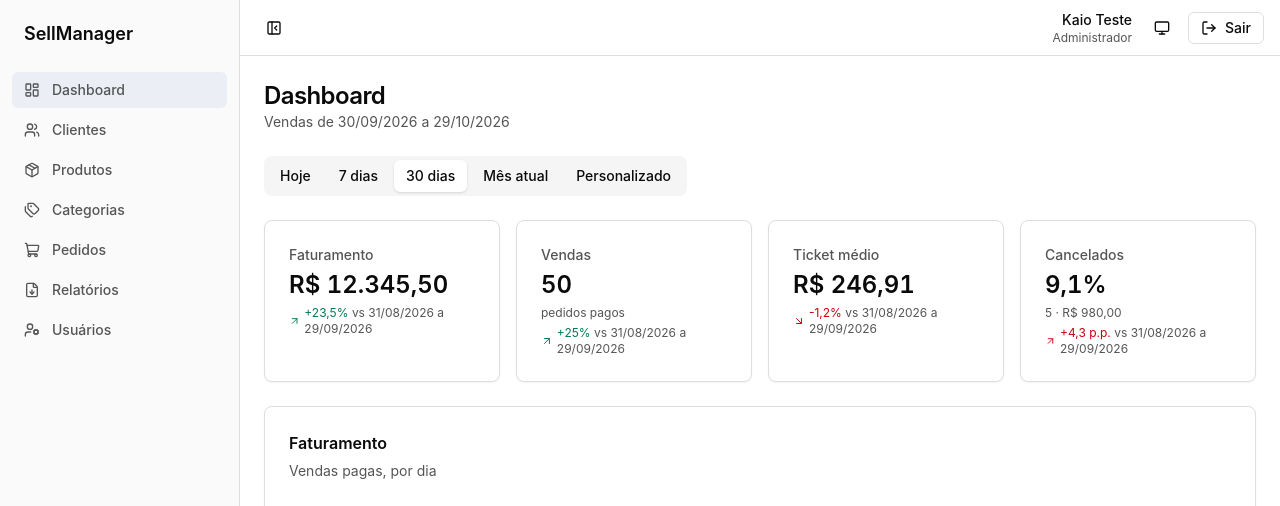
Test case: layout autenticado › navega entre as páginas e marca a rota ativa
Click the link "Produtos" at (68, 170), box [24,161,112,178]
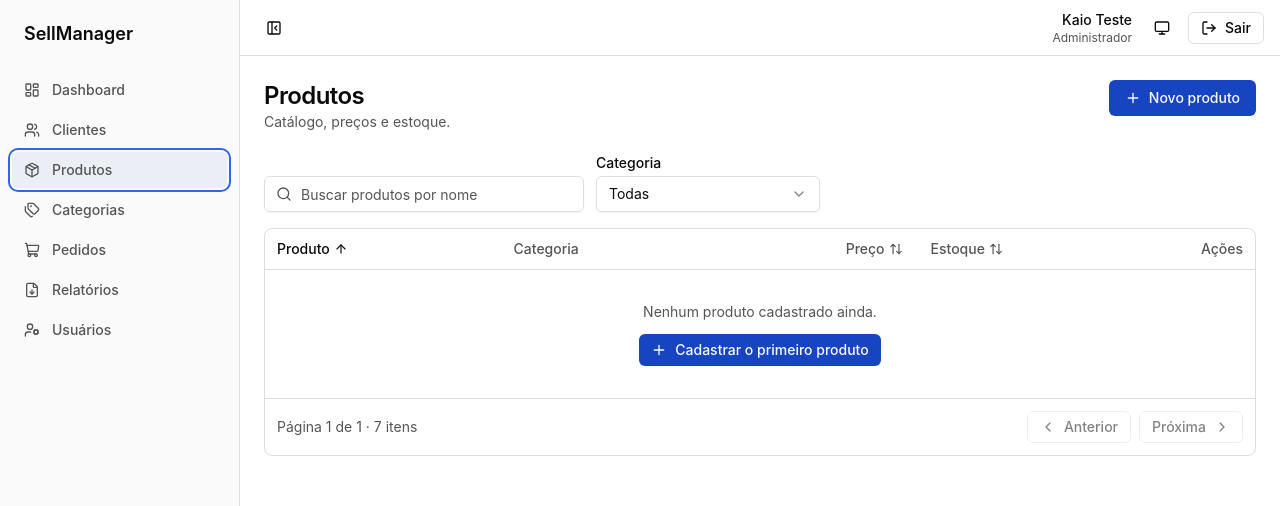
Expected: the heading "Produtos" is shown, [264,81,364,110]
